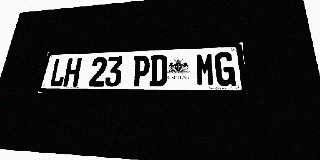2: (89, 57, 108, 87)
3: (104, 56, 123, 87)
D: (149, 54, 167, 86)
G: (214, 52, 236, 86)
H: (63, 58, 82, 87)
L: (49, 58, 68, 87)
M: (196, 53, 215, 86)
P: (132, 55, 150, 87)
